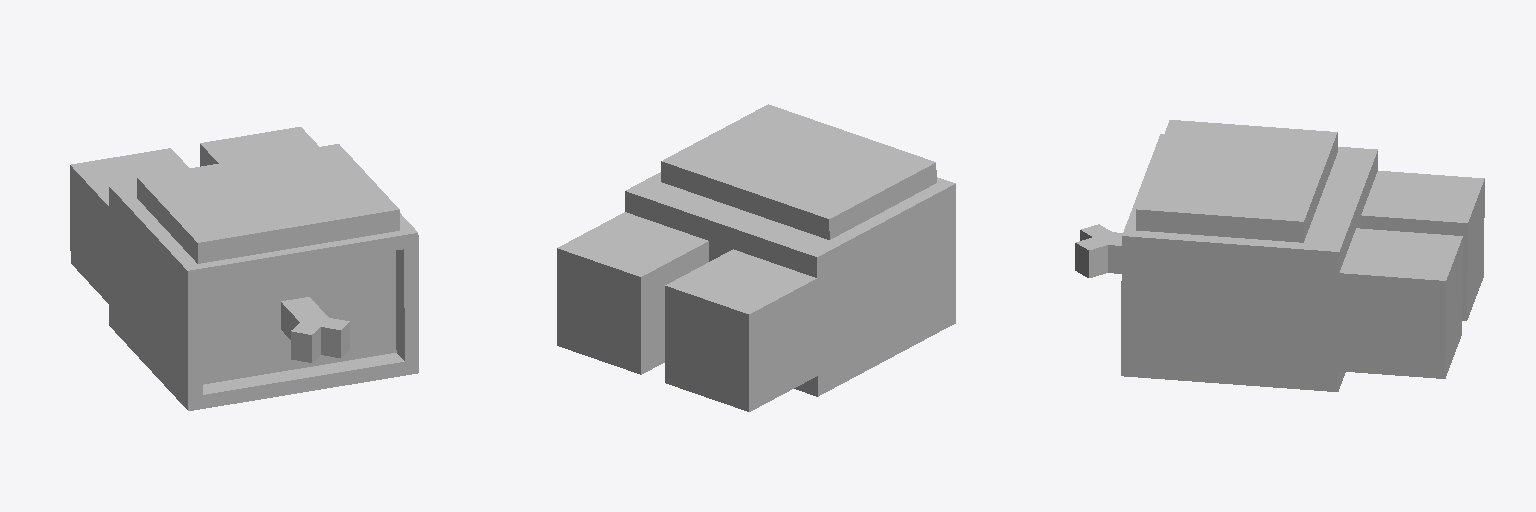
Rendered from deadbody.obj.
3 renders of one model, left to right at view 1: azimuth 30°, elevation 25°; view 2: azimuth 150°, elevation 25°; view 3: azimuth 270°, elevation 25°, orthographic.
Parts seen in each view (by area): view 1: cube; view 2: cube; view 3: cube.
Boxes of the visible parts, x1=… form: cube: x1=70, y1=127, x2=418, y2=410; cube: x1=557, y1=104, x2=955, y2=411; cube: x1=1075, y1=120, x2=1484, y2=391.
Size of the model in its own units: 0.7047 by 0.4288 by 0.9757.